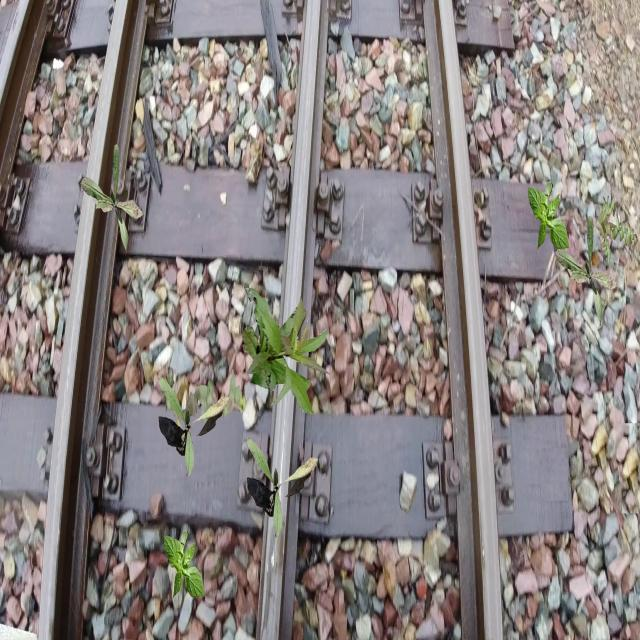Plant: (242, 286, 330, 416), (158, 378, 230, 478), (555, 215, 619, 327), (80, 144, 144, 256), (247, 439, 318, 538), (160, 367, 246, 436), (596, 195, 638, 266), (528, 181, 570, 252), (164, 529, 206, 600)
